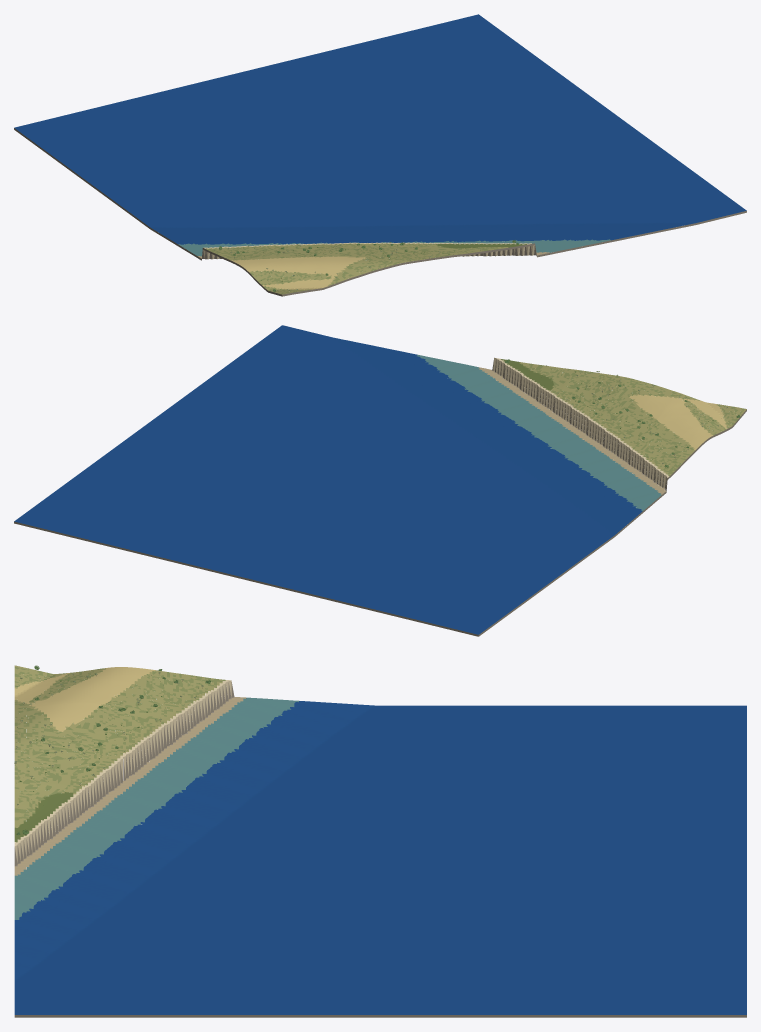
Rendered from parca_+13_-1-yakin.glb.
3 renders of one model, top to bottom at view 1: azimuth 30°, elevation 25°; view 2: azimuth 150°, elevation 25°; view 3: azimuth 270°, elevation 25°, orthographic. The views are drawn at different scales.
Parts seen in each view (by area): view 1: parca_+13_-1_arazi; view 2: parca_+13_-1_arazi; view 3: parca_+13_-1_arazi, parca_+13_-1_bitkiler.
Part boxes in pixels (box(x1,y1,x2,y2)): parca_+13_-1_arazi: box(14, 14, 746, 296); parca_+13_-1_arazi: box(14, 325, 746, 636); parca_+13_-1_arazi: box(14, 665, 746, 1017); parca_+13_-1_bitkiler: box(14, 665, 212, 835).
Bounding box in the file's own units: 1003 × 72.7 × 1001.
